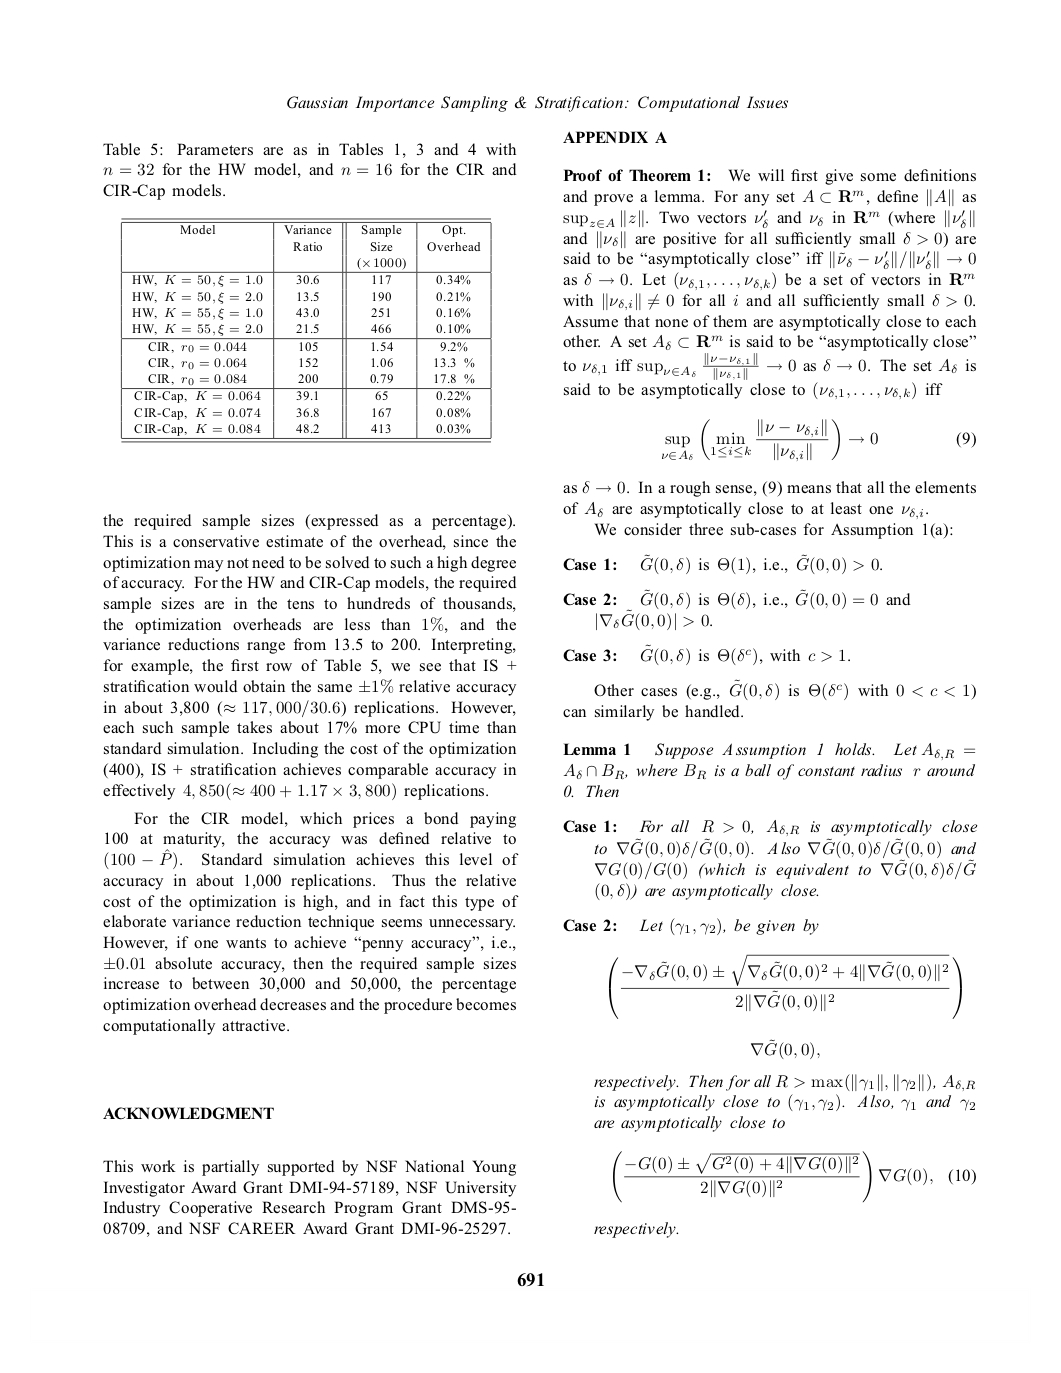Table: (120, 217, 491, 444)
formula: (609, 953, 961, 1019), (613, 1150, 975, 1202), (662, 418, 975, 462), (596, 612, 711, 631), (751, 1038, 819, 1060)
